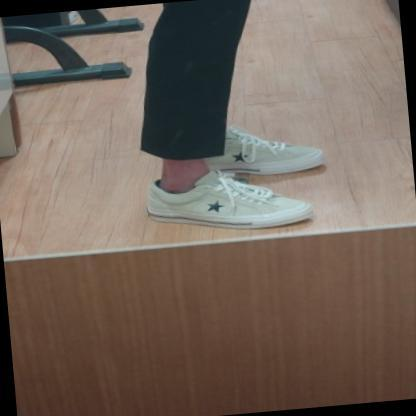no_safety-shoe: (131, 162, 331, 249), (193, 116, 338, 182)
